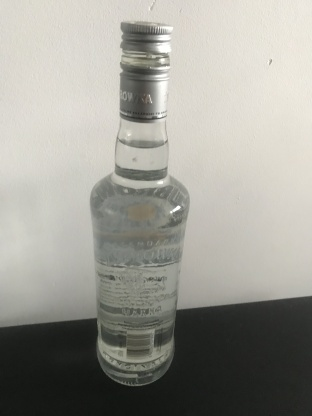nakretka: (118, 17, 173, 123)
